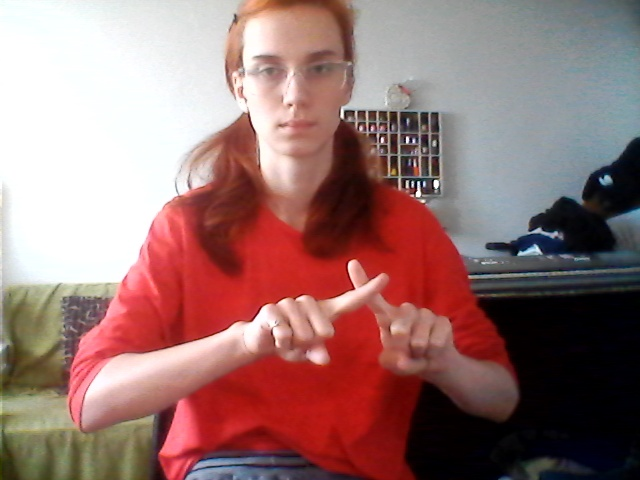x: (241, 247, 459, 386)
